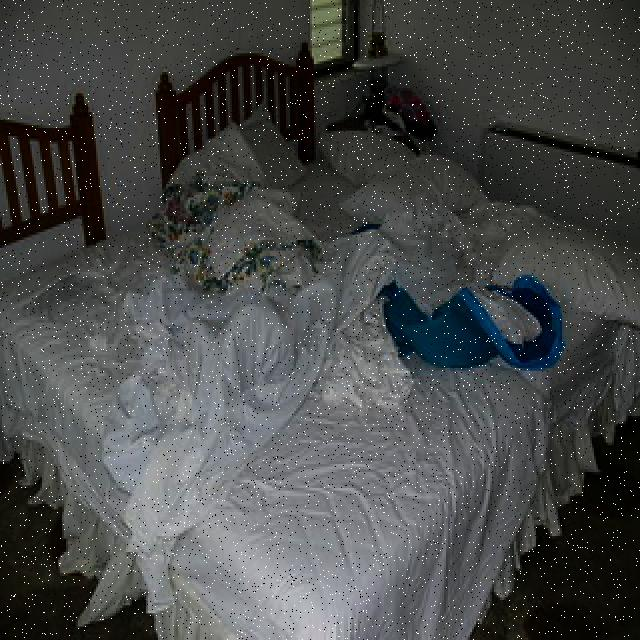bed: (0, 121, 622, 614)
